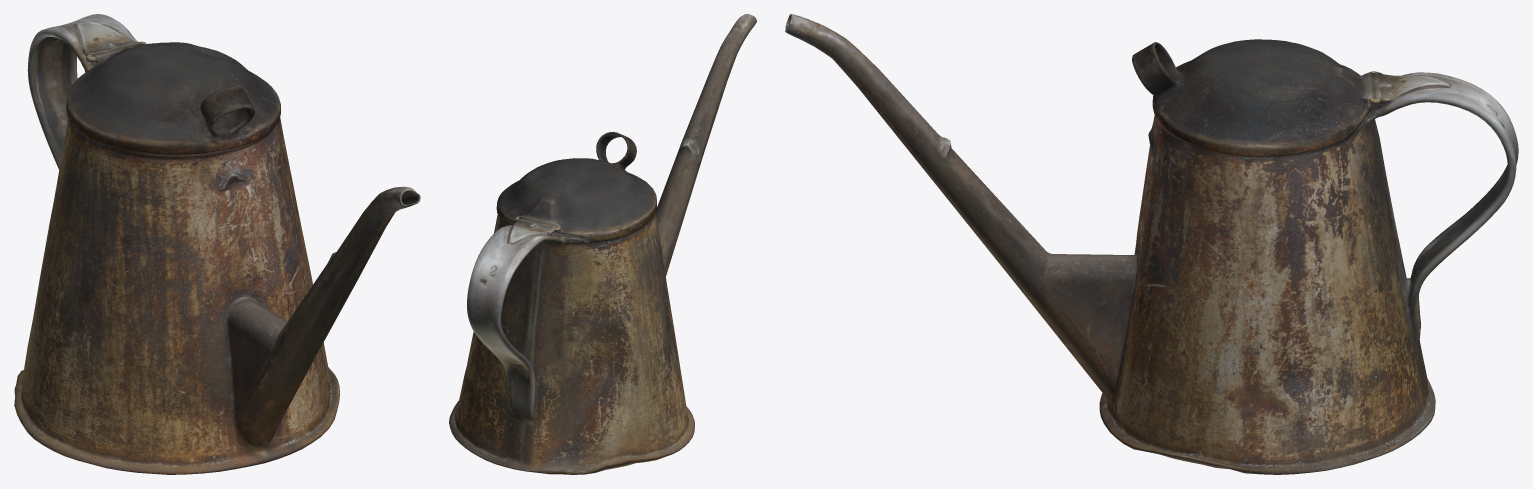
The model's file is sample.glb.
3 renders of one model, left to right at view 1: azimuth 30°, elevation 25°; view 2: azimuth 150°, elevation 25°; view 3: azimuth 270°, elevation 25°, orthographic. The views are drawn at different scales.
Parts seen in each view (by area): view 1: OilCan_0; view 2: OilCan_0; view 3: OilCan_0.
Boxes of the visible parts, left/top/right/bottom form: OilCan_0: left=14, top=14, right=420, bottom=474; OilCan_0: left=449, top=14, right=756, bottom=474; OilCan_0: left=785, top=14, right=1518, bottom=474.
Size of the model in its own units: 0.1299 by 0.1676 by 0.2838.
Materials: 1 (1 with a texture image).
